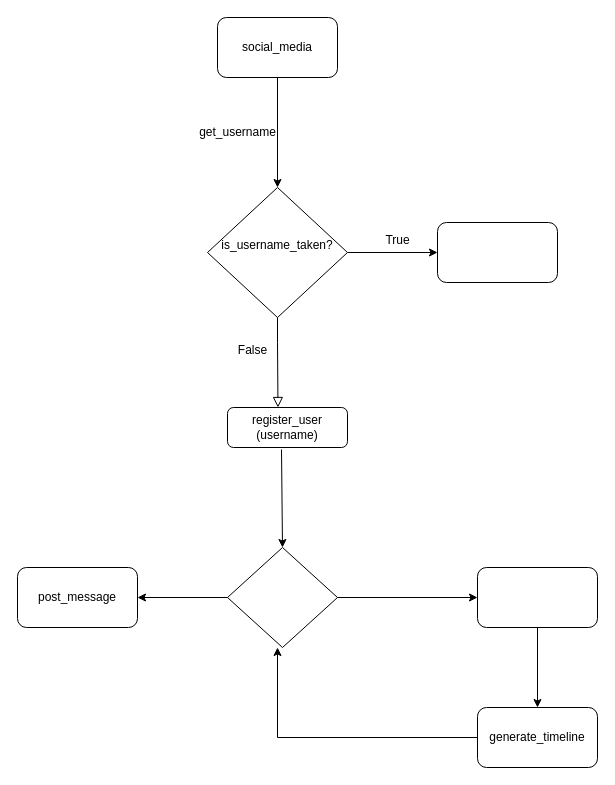
The diagram is 615 pixels wide and 785 high, and some of its shapes have lost their labels. The centre of each missing label's shape, as x and y in pixels:
follow another users: the point at 537,597
the user is exist in the system: the point at 497,252
User: the point at 282,597
